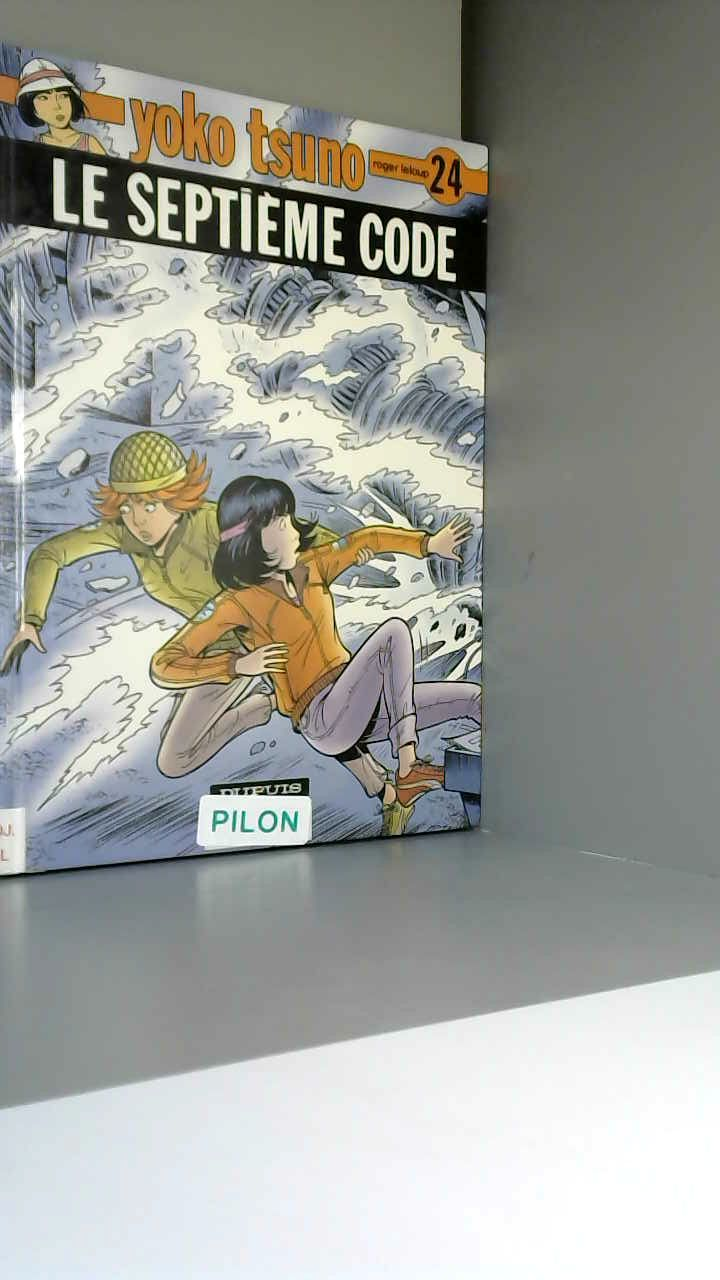book: (0, 27, 504, 894)
